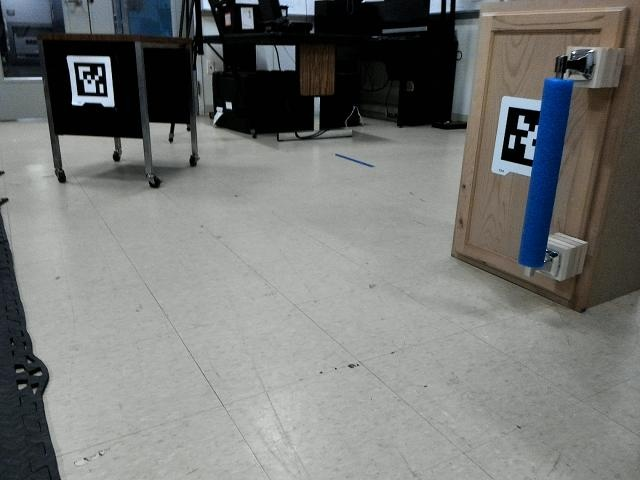noodle_handle: (511, 65, 575, 278)
